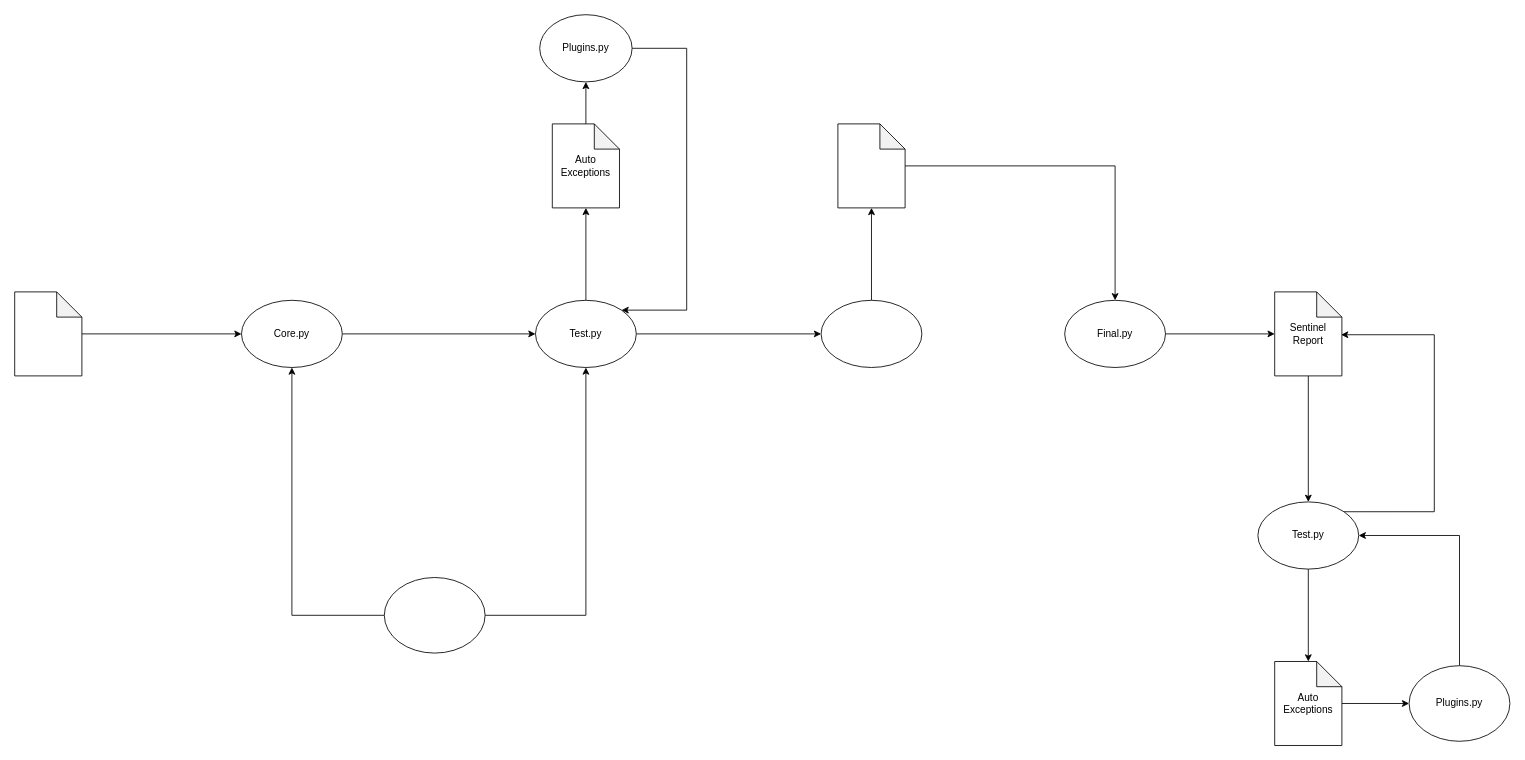
Some shapes in this 1525 by 760 pixel diagram are drawn without their labels. Each missing label, with the centre of its shape:
"Plugins" goes at (434,615).
"Raw Files" goes at (48,333).
"Staging" goes at (871,165).
"Staging.py" goes at (871,333).
